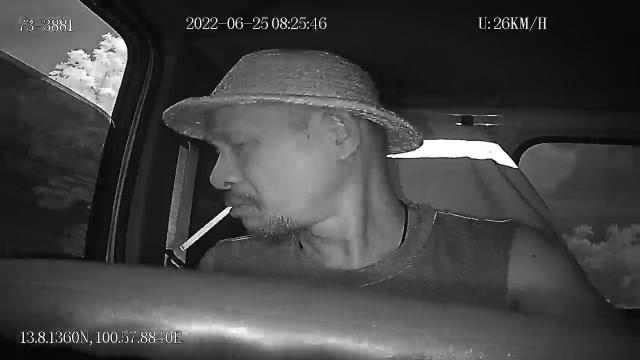Smoking: (178, 205, 232, 257)
